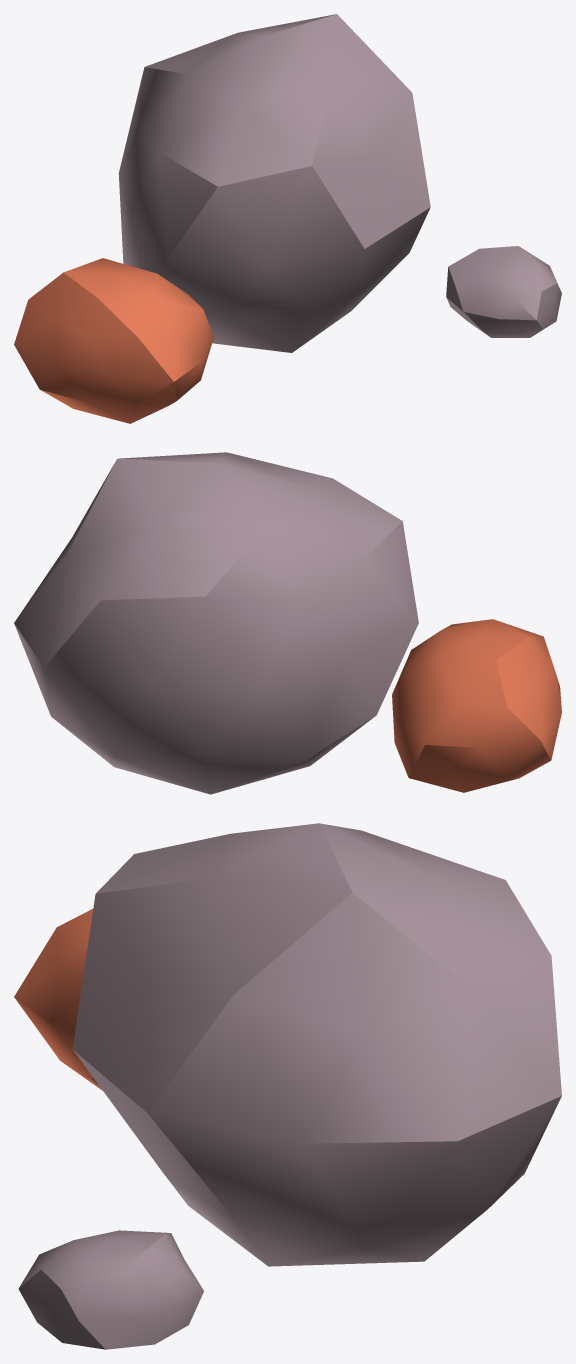
Rendered from rock_group.glb.
3 views of the same model, one above another, from view 1: azimuth 30°, elevation 25°; view 2: azimuth 150°, elevation 25°; view 3: azimuth 270°, elevation 25° (orthographic). The views are drawn at different scales.
Visible parts, largest first — view 1: rock_group; view 2: rock_group; view 3: rock_group.
Part boxes in pixels (left/top/right/bottom): rock_group: left=14, top=14, right=561, bottom=423; rock_group: left=14, top=452, right=561, bottom=794; rock_group: left=14, top=823, right=561, bottom=1349.
Bounding box in the file's own units: 1.35 × 0.7251 × 0.9125.
